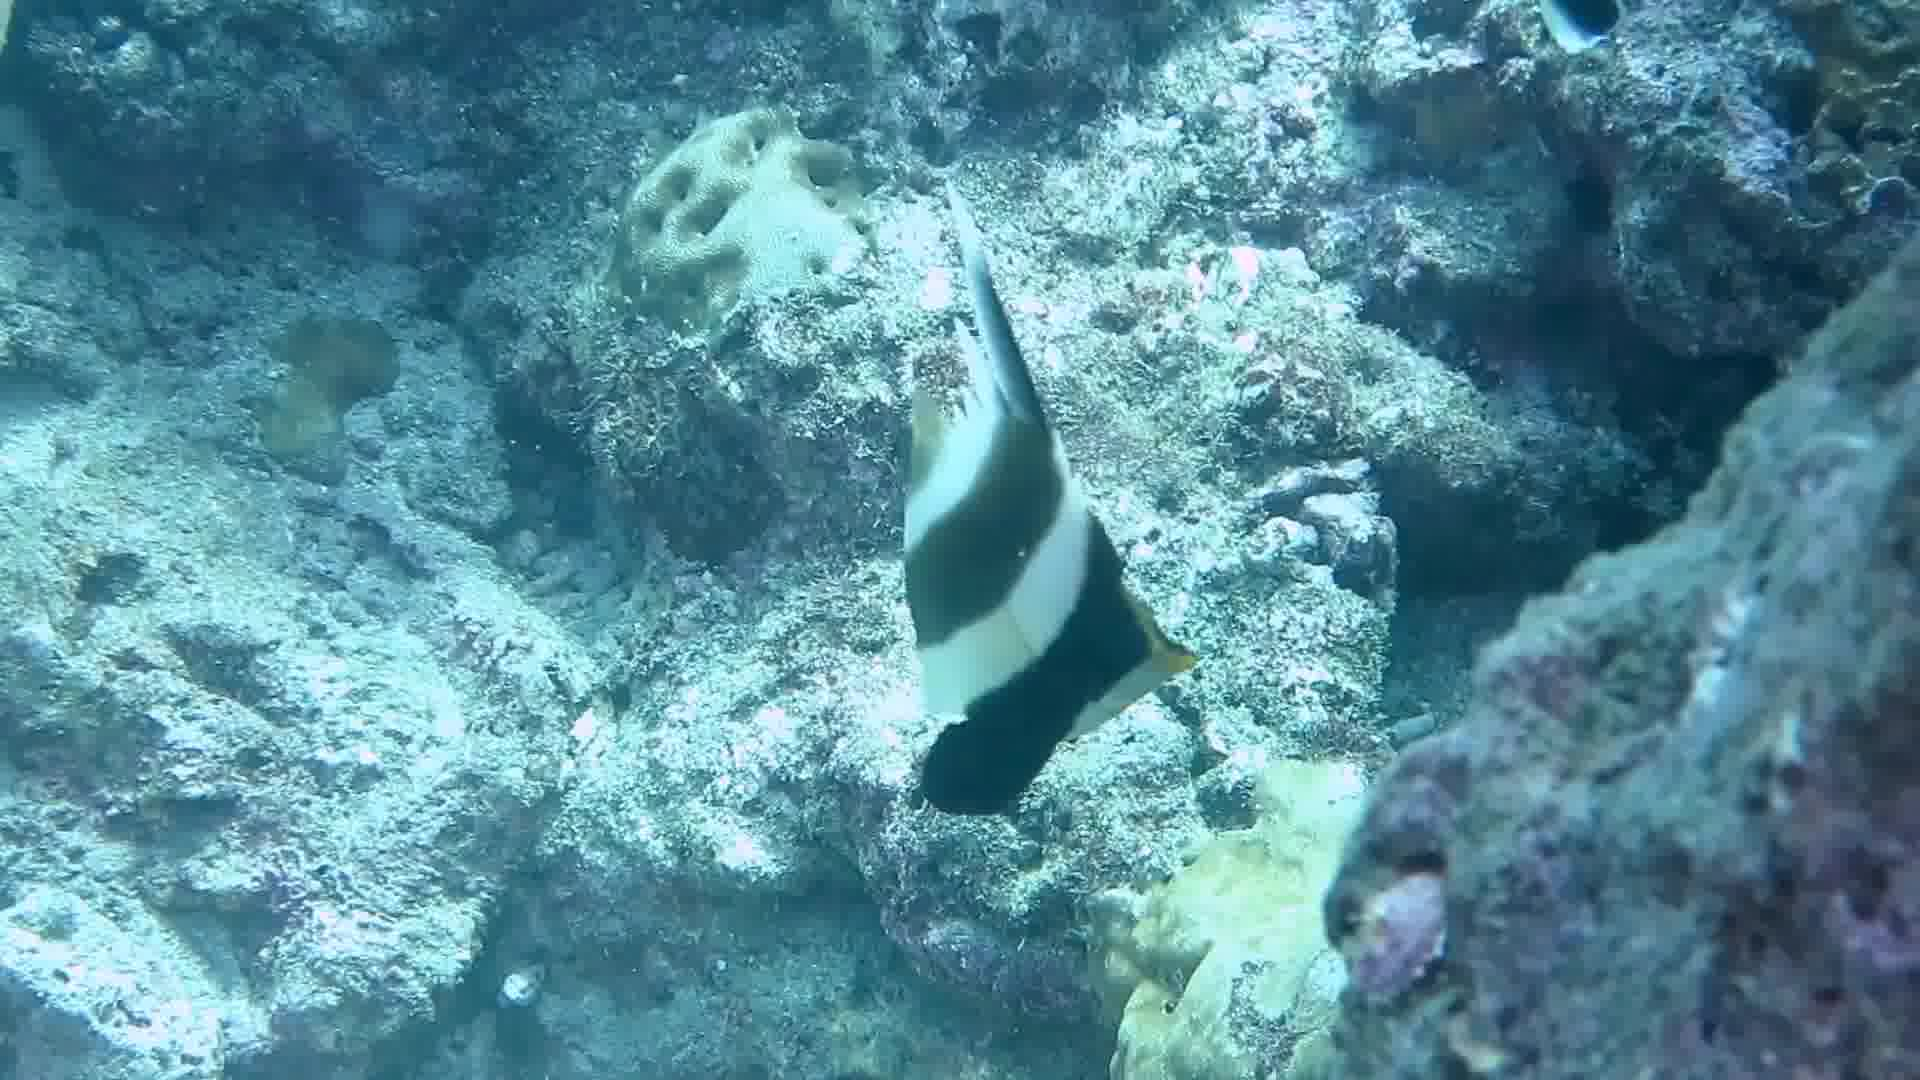Heniochus chrysostomus: (761, 185, 1296, 827)
